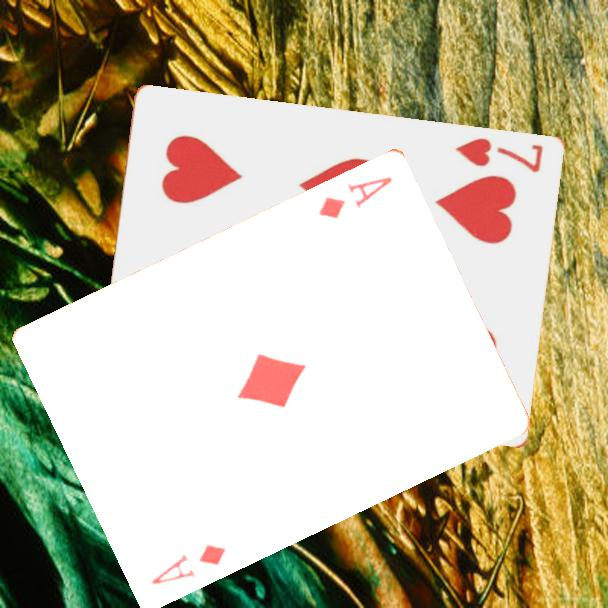d01: (314, 172, 396, 221), (148, 540, 229, 587)
h07: (452, 134, 547, 175)
